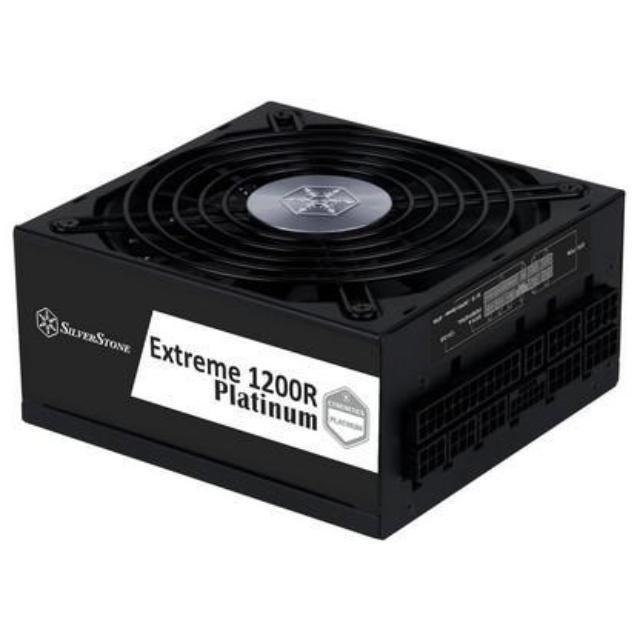PSU: (9, 94, 638, 546)
